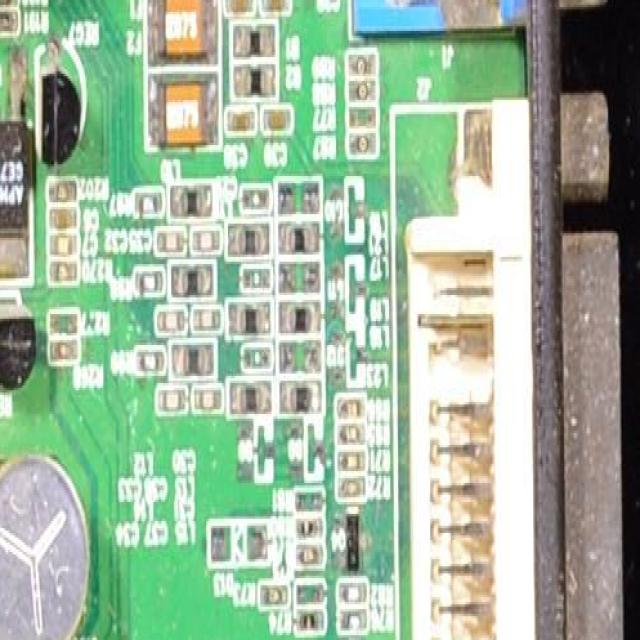IC: (0, 43, 30, 278)
capacitor: (154, 304, 188, 338), (189, 381, 221, 413), (226, 102, 256, 134), (192, 224, 224, 254), (190, 304, 222, 334), (156, 383, 186, 414), (240, 262, 273, 290), (262, 105, 292, 134), (242, 347, 274, 373), (348, 74, 376, 103), (49, 205, 78, 232), (346, 130, 381, 152), (240, 183, 270, 208), (346, 107, 378, 130), (157, 228, 185, 252), (348, 52, 378, 74), (49, 236, 79, 257), (223, 0, 256, 17), (261, 0, 295, 12)
connector: (393, 107, 640, 640), (337, 0, 618, 29)
resistor: (134, 188, 166, 219), (134, 345, 168, 374), (338, 578, 368, 607), (294, 609, 325, 637), (134, 269, 166, 296), (260, 583, 290, 610), (296, 578, 327, 604), (48, 178, 78, 204), (294, 485, 324, 509), (335, 395, 366, 418), (49, 309, 79, 332), (49, 340, 78, 363), (49, 260, 79, 282), (294, 514, 324, 536), (340, 609, 370, 631), (336, 421, 364, 444), (296, 540, 322, 564), (339, 476, 367, 498), (339, 450, 366, 470), (0, 11, 15, 33), (0, 0, 19, 2)
transistor: (331, 514, 374, 570)
